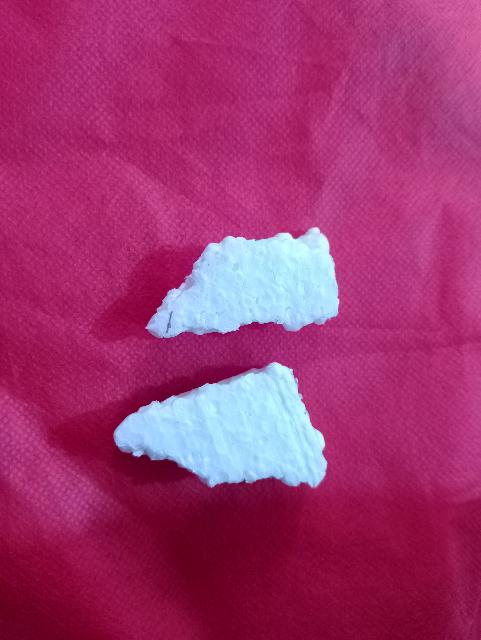cocksheet: (121, 376, 336, 490), (163, 221, 344, 330)
